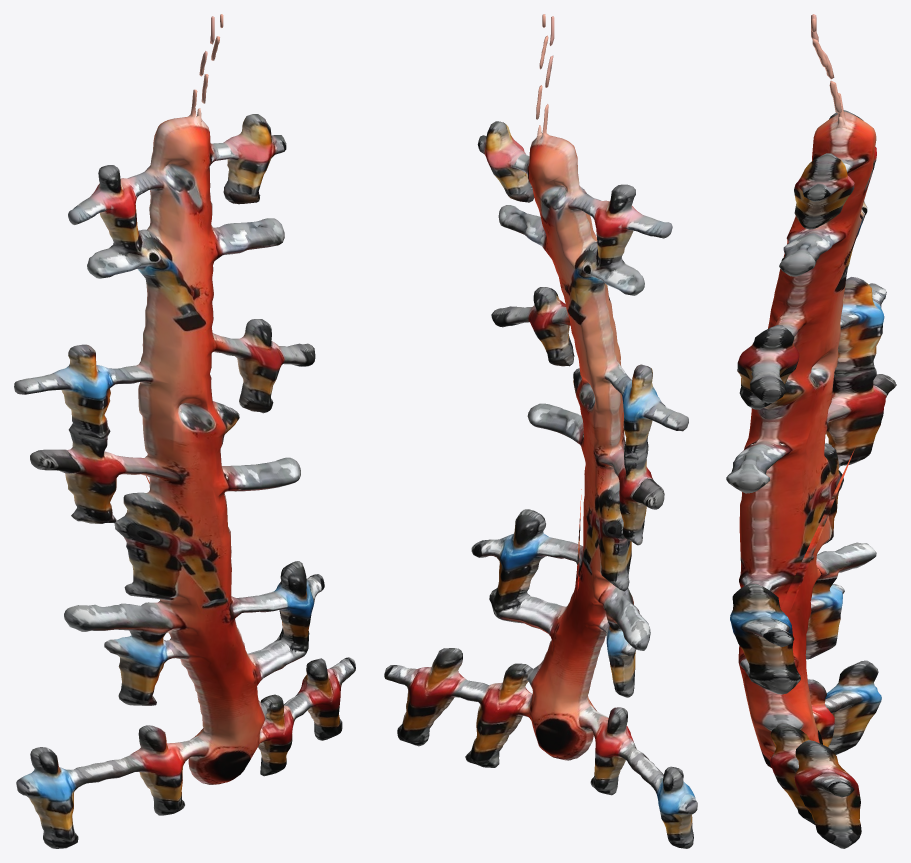
File: hy3d-mov-004.glb
The picture shows the model from 3 angles, left to right: view 1: azimuth 30°, elevation 25°; view 2: azimuth 150°, elevation 25°; view 3: azimuth 270°, elevation 25°; orthographic projection. The views are drawn at different scales.
Parts seen in each view (by area): view 1: world; view 2: world; view 3: world.
Boxes of the visible parts, <box> form: world: <box>14,14,355,848</box>; world: <box>384,14,697,848</box>; world: <box>726,14,896,848</box>.
Bounding box in the file's own units: 0.9115 × 2.15 × 0.4094.
1 material, 1 textured.
